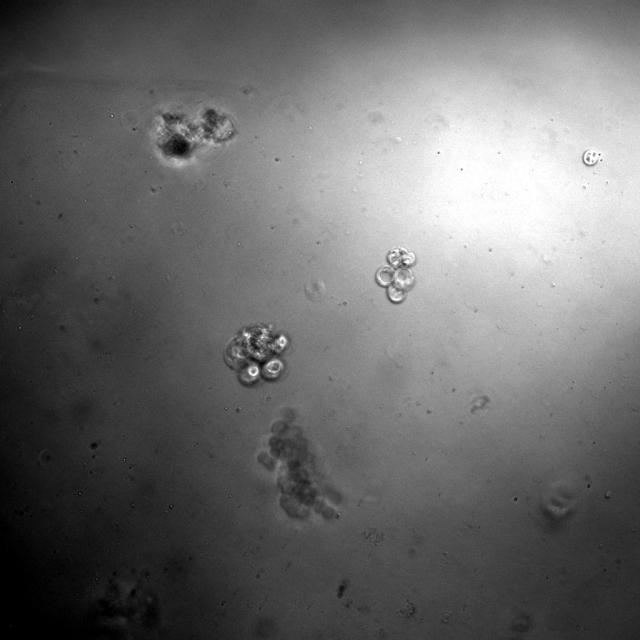organoid: (257, 407, 341, 520), (150, 107, 237, 163), (224, 322, 289, 385), (375, 246, 415, 303), (582, 148, 601, 165)
